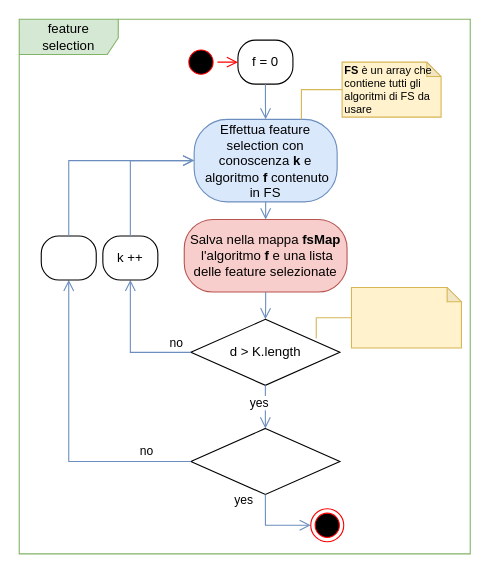
The diagram is 490 pixels wide and 573 high, and some of its shapes have lost their labels. The shapes that lost their labels are listed below. From the top down, each one's centre as x and y in pixels, then its label:
point (68, 257): f ++
point (405, 317): K è un array che contiene le conoscenze passate dall'utente
point (265, 460): f > FS.length
